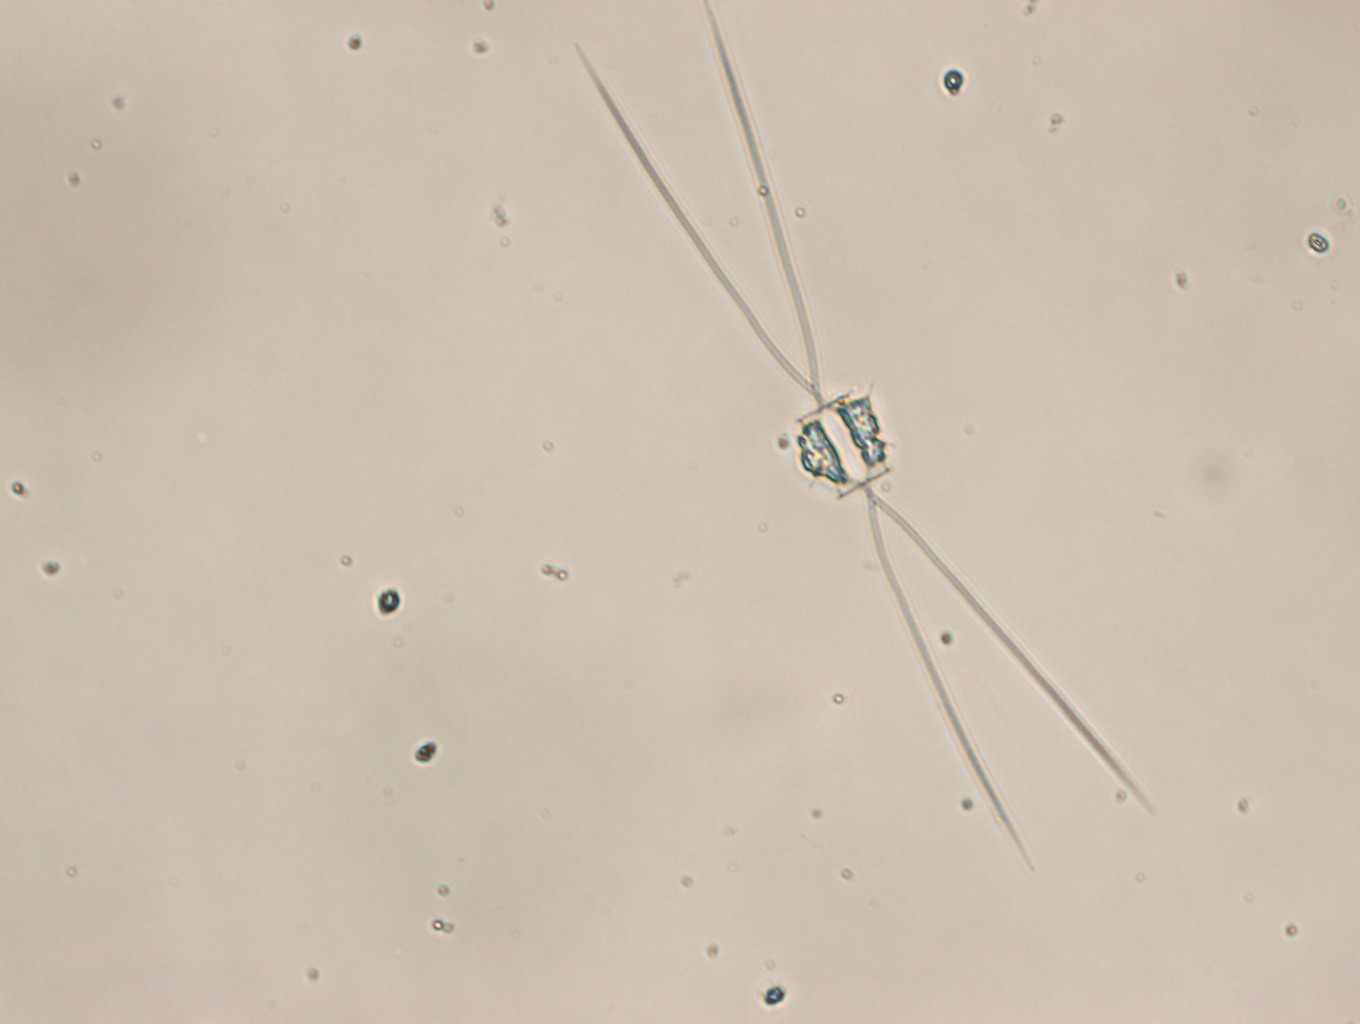chaetoceros: (559, 6, 1165, 869)
